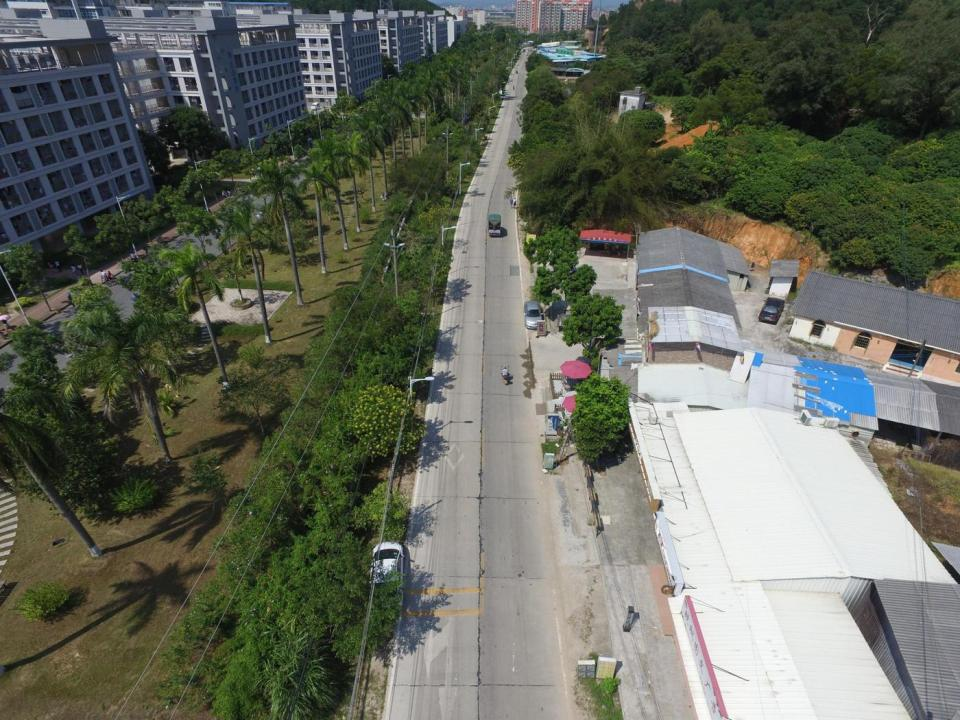car: (367, 540, 408, 613), (757, 296, 784, 325), (522, 300, 548, 328), (499, 94, 506, 99)
